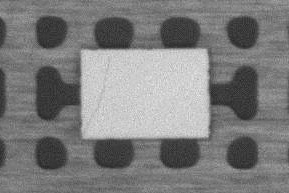DIE_CRACK: (83, 56, 110, 132)
